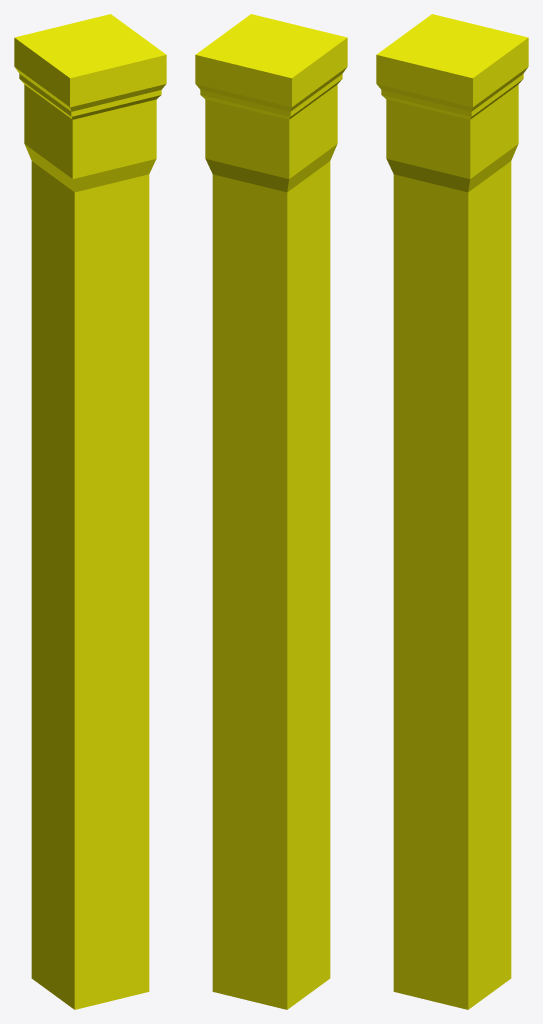
Rendered from metal-column-small-top.glb.
The picture shows the model from 3 angles, left to right: view 1: azimuth 30°, elevation 25°; view 2: azimuth 150°, elevation 25°; view 3: azimuth 330°, elevation 25°; orthographic projection.
Visible parts, largest first — view 1: Metal_Column_Small_Top; view 2: Metal_Column_Small_Top; view 3: Metal_Column_Small_Top.
Part boxes in pixels (bbox=[...]): Metal_Column_Small_Top: bbox=[14, 14, 166, 1009]; Metal_Column_Small_Top: bbox=[195, 14, 347, 1009]; Metal_Column_Small_Top: bbox=[376, 14, 528, 1009].
Bounding box in the file's own units: 0.3221 × 3 × 0.3223.
Materials: 1 (1 with a texture image).
